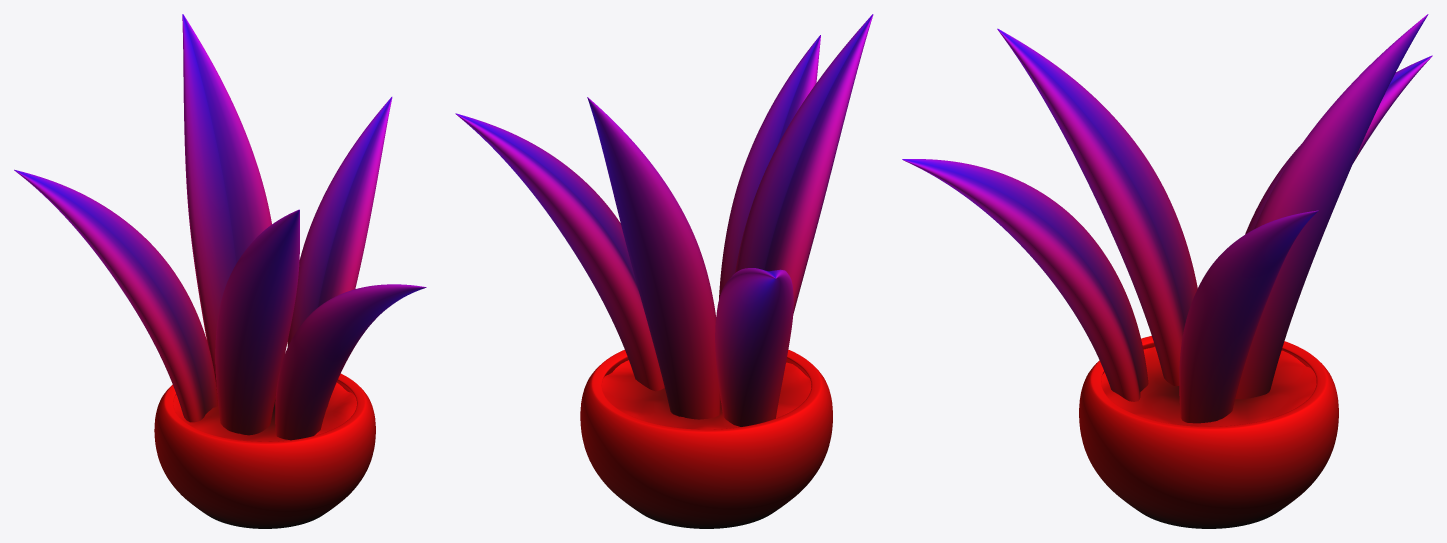
The model's file is Stylized_potted_plant_0.fbx.
3 views of the same model, side by side, from view 1: azimuth 30°, elevation 25°; view 2: azimuth 150°, elevation 25°; view 3: azimuth 270°, elevation 25° (orthographic). The views are drawn at different scales.
Visible parts, largest first — view 1: Stylized_potted_plant; view 2: Stylized_potted_plant; view 3: Stylized_potted_plant.
Boxes of the visible parts, <box> form: Stylized_potted_plant: <box>14,14,426,528</box>; Stylized_potted_plant: <box>455,14,873,528</box>; Stylized_potted_plant: <box>902,14,1432,528</box>.
Bounding box in the file's own units: 102 × 123 × 121.
